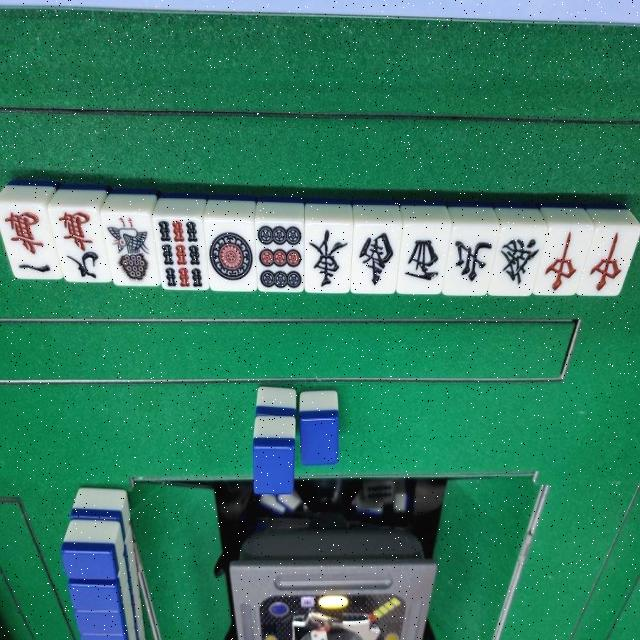bamboos_1: (101, 210, 161, 288)
bamboos_9: (153, 215, 208, 292)
characters_9: (47, 206, 111, 283)
circles_1: (205, 219, 257, 294)
circles_9: (256, 220, 304, 293)
east: (302, 221, 352, 295)
green: (488, 222, 546, 298)
north: (443, 223, 499, 298)
red: (531, 225, 595, 296), (580, 225, 639, 298)
south: (350, 222, 400, 296)
west: (396, 223, 450, 296)
